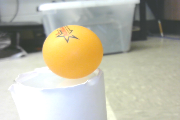PingPongBall: (44, 26, 103, 79)
